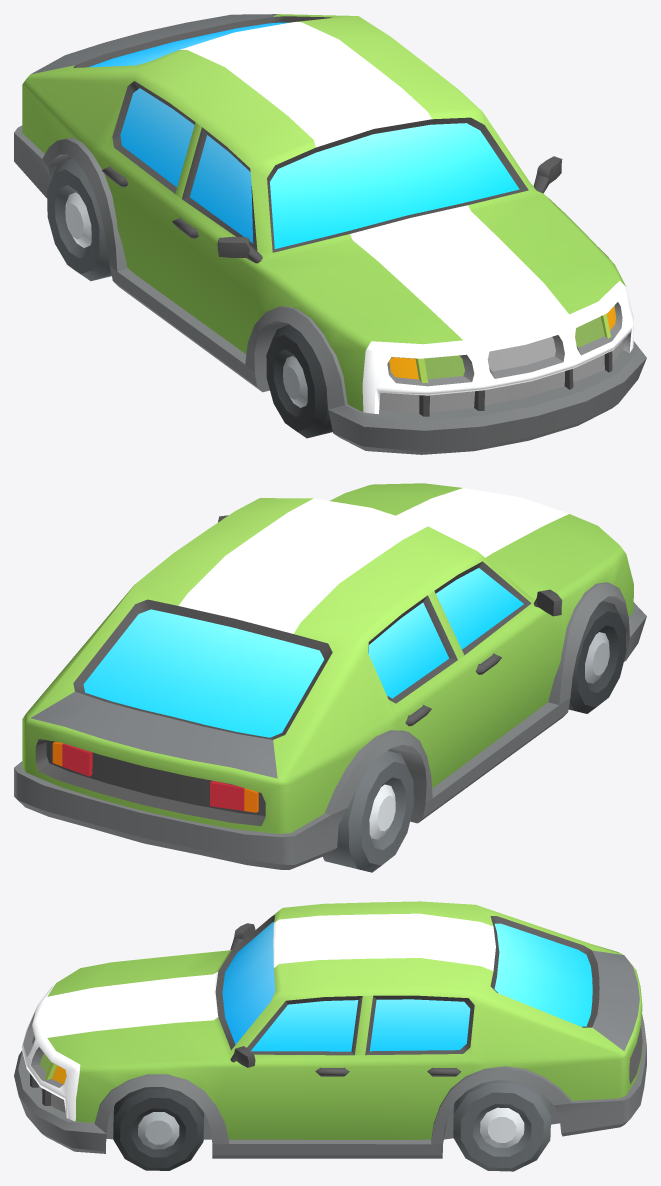
File: Car_32.glb
The picture shows the model from 3 angles, top to bottom: view 1: azimuth 30°, elevation 25°; view 2: azimuth 150°, elevation 25°; view 3: azimuth 270°, elevation 25°; orthographic projection. The views are drawn at different scales.
Parts seen in each view (by area): view 1: Car_32, Wheel_086, Wheel_085; view 2: Car_32, Wheel_086, Wheel_085; view 3: Car_32, Wheel_088, Wheel_087.
Boxes of the visible parts, x1,y1,x2,y2 form: Car_32: (14,14,646,454); Wheel_086: (47,158,111,280); Wheel_085: (266,324,332,438); Car_32: (14,483,646,869); Wheel_086: (323,751,413,872); Wheel_085: (568,601,626,713); Car_32: (14,901,646,1158); Wheel_088: (453,1080,551,1171); Wheel_087: (113,1087,203,1170).
Bounding box in the file's own units: 2.41 × 1.52 × 4.83.
2 materials, 2 textured.
